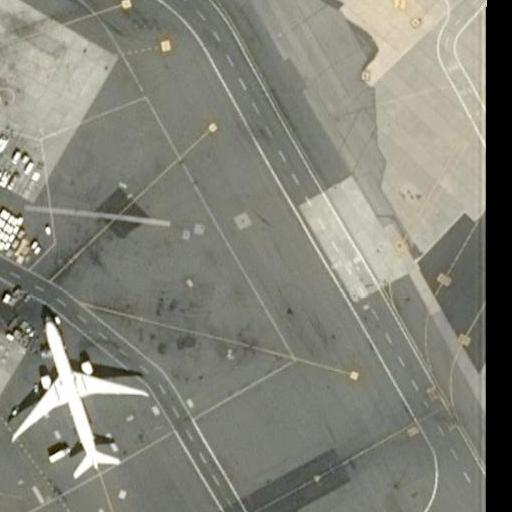Aircraft: (12, 309, 142, 479)
